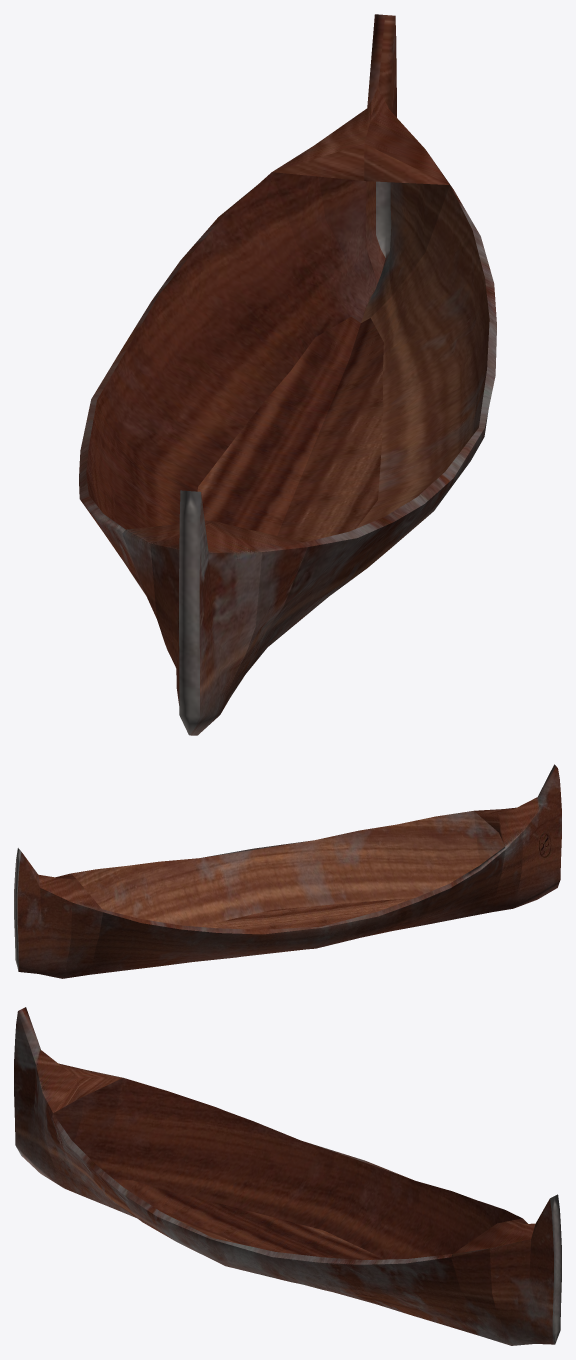
Rendered from canoe.obj.
The picture shows the model from 3 angles, top to bottom: view 1: azimuth 30°, elevation 25°; view 2: azimuth 150°, elevation 25°; view 3: azimuth 270°, elevation 25°; orthographic projection. The views are drawn at different scales.
Parts seen in each view (by area): view 1: Boat_Shell; view 2: Boat_Shell; view 3: Boat_Shell.
Boxes of the visible parts, bbox=[...] form: Boat_Shell: bbox=[79, 14, 496, 735]; Boat_Shell: bbox=[14, 764, 561, 978]; Boat_Shell: bbox=[14, 1007, 561, 1345].
Bounding box in the file's own units: 0.7136 × 0.2821 × 0.8512.
Materials: 1 (1 with a texture image).
